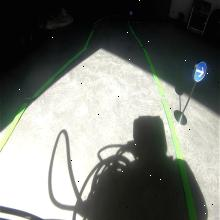right: (192, 60, 207, 82)
